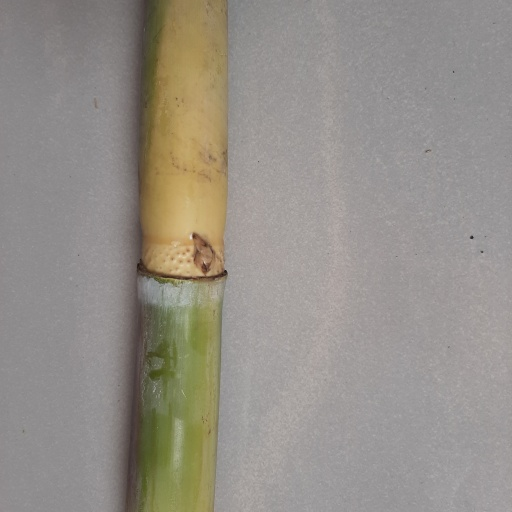Bud: (191, 232, 216, 274)
